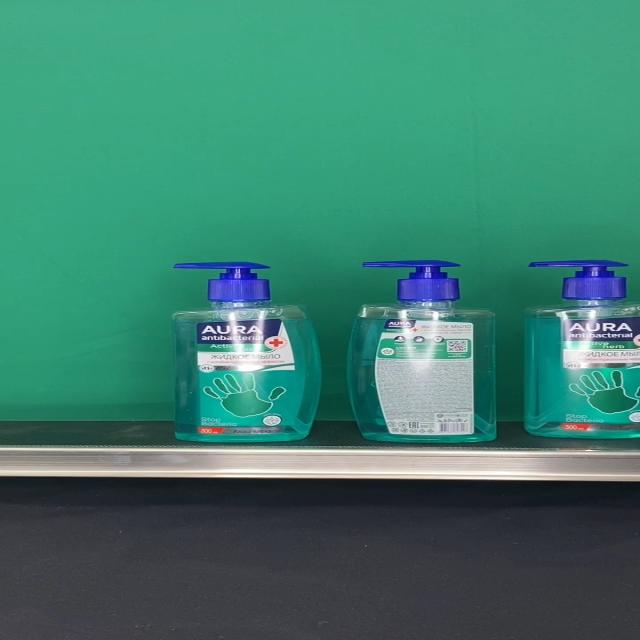Bottle: (347, 260, 498, 442), (170, 261, 321, 442), (524, 260, 640, 438)
Cap: (362, 259, 460, 301), (528, 260, 628, 300), (174, 261, 272, 301)
